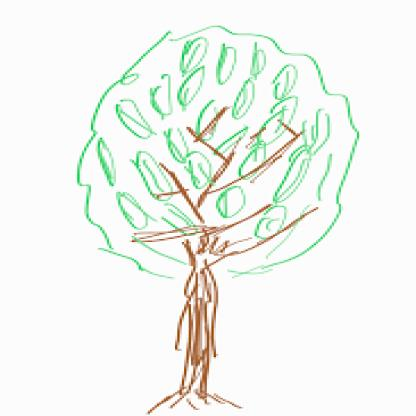branch_line: (134, 104, 321, 238)
crown_cloud: (70, 23, 362, 280)
root_only: (145, 388, 251, 414)
trunk_bark: (172, 286, 223, 374)
